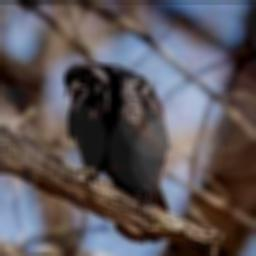Crow: (62, 60, 171, 243)
